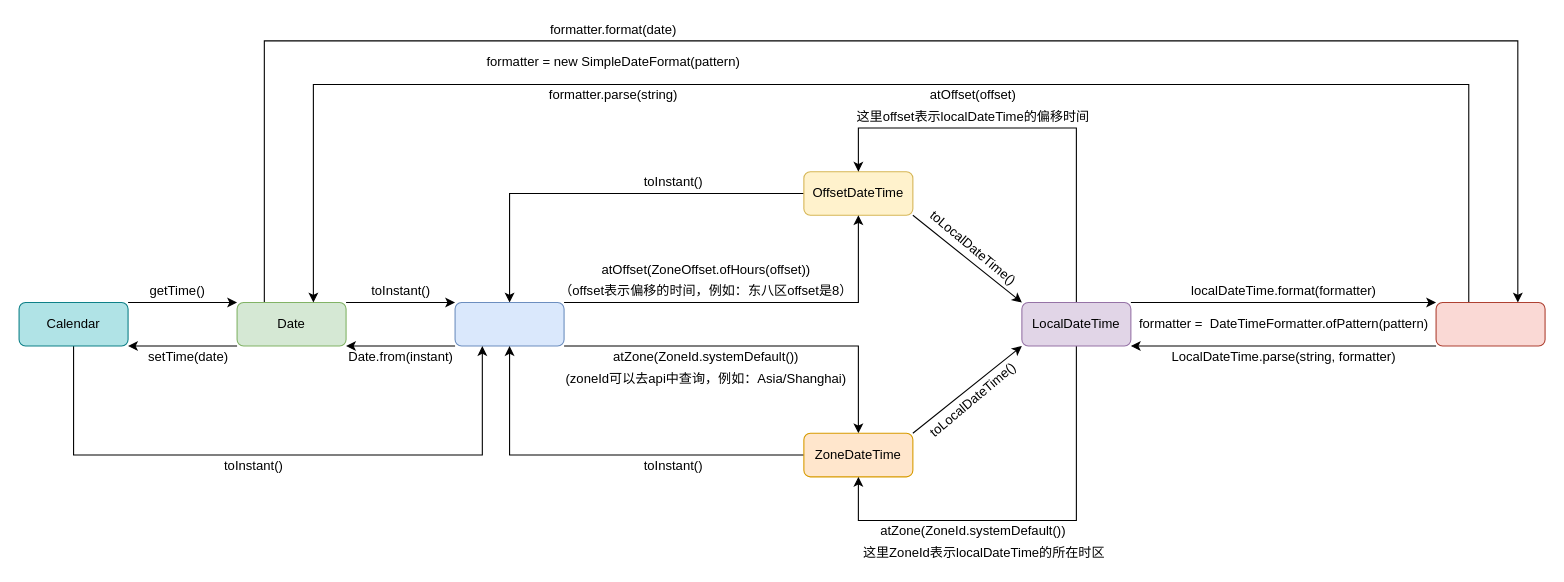
Some shapes in this 1564 by 582 pixel diagram are drawn without their labels. The centre of each missing label's shape, as x and y in pixels:
"Instant" goes at [509,323].
"String" goes at [1490,323].
